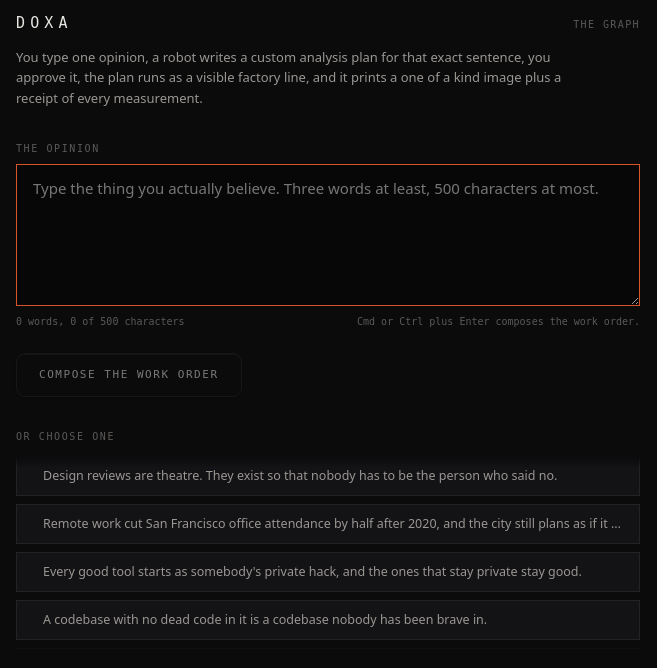
the front door › holds the compose button shut until the text clears intake
Expected: the button "COMPOSE THE WORK ORDER" is disabled, [16,353,242,397]
Replace the text in the text box labelled "THE OPINION" with "two words" at (328, 235), box [16,164,640,306]
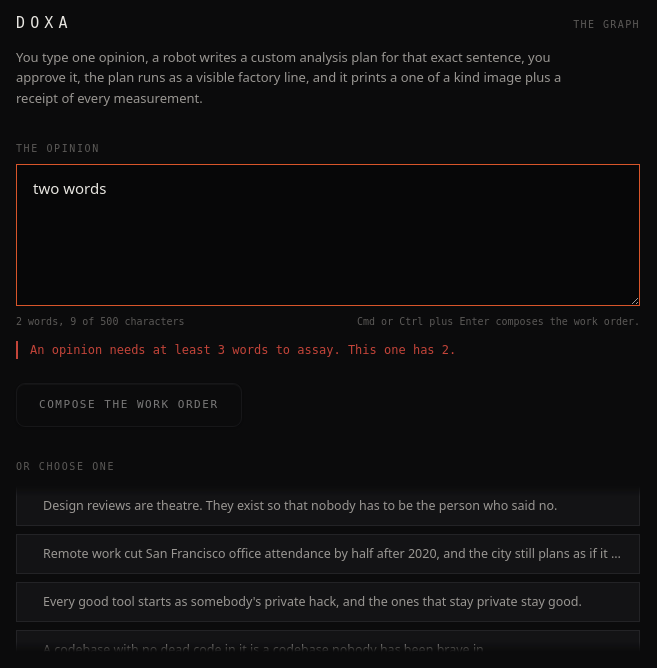
Expected: the button "COMPOSE THE WORK ORDER" is disabled, [16,383,242,427]
Replace the text in the text box labelled "THE OPINION" with "now it is three words at least" at (328, 235), box [16,164,640,306]
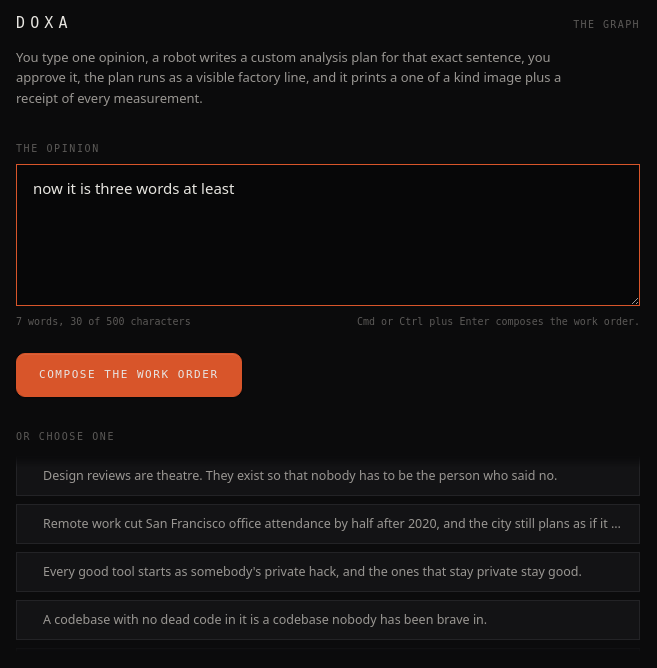
Now the button "COMPOSE THE WORK ORDER" is enabled, box [16,353,242,397]
